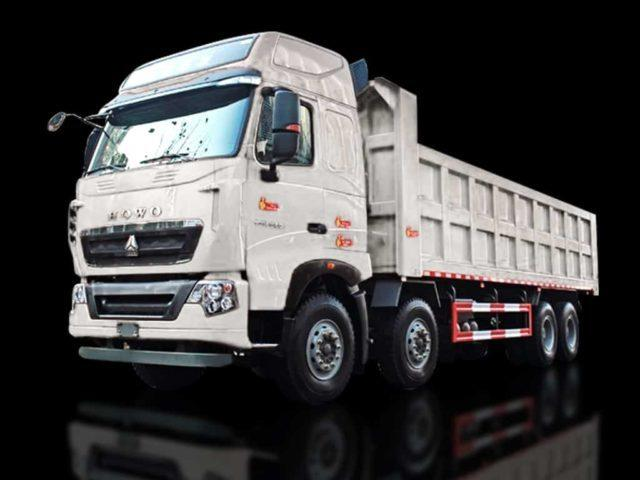truck: (46, 31, 598, 402)
